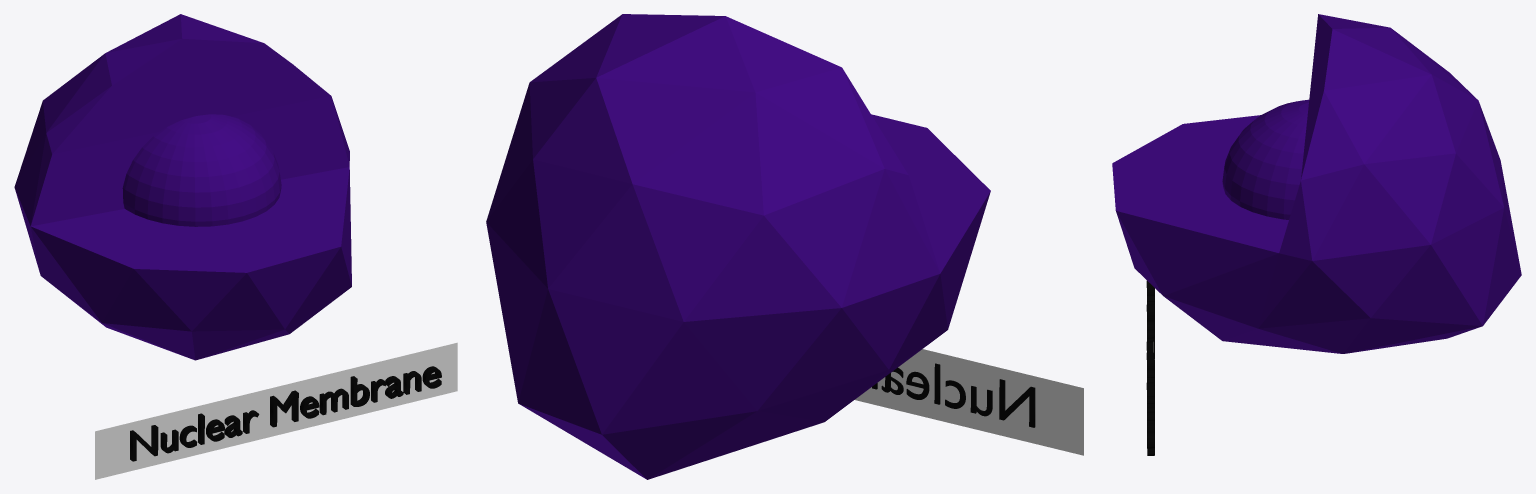
File: nuclearmembrane1.gltf
3 views of the same model, side by side, from view 1: azimuth 30°, elevation 25°; view 2: azimuth 150°, elevation 25°; view 3: azimuth 270°, elevation 25° (orthographic). The views are drawn at different scales.
Parts seen in each view (by area): view 1: Icosphere.009, Plane.043, Text.028; view 2: Icosphere.009, Plane.043, Text.028; view 3: Icosphere.009, Text.028.
Boxes of the visible parts, x1=… form: Icosphere.009: x1=14, y1=14, x2=351, y2=360; Plane.043: x1=95, y1=342, x2=457, y2=479; Text.028: x1=130, y1=366, x2=441, y2=461; Icosphere.009: x1=486, y1=14, x2=990, y2=479; Plane.043: x1=855, y1=349, x2=1083, y2=455; Text.028: x1=872, y1=363, x2=1035, y2=427; Icosphere.009: x1=1112, y1=14, x2=1521, y2=353; Text.028: x1=1146, y1=281, x2=1154, y2=455.
Size of the model in its own units: 1.14 by 1.01 by 1.06.
